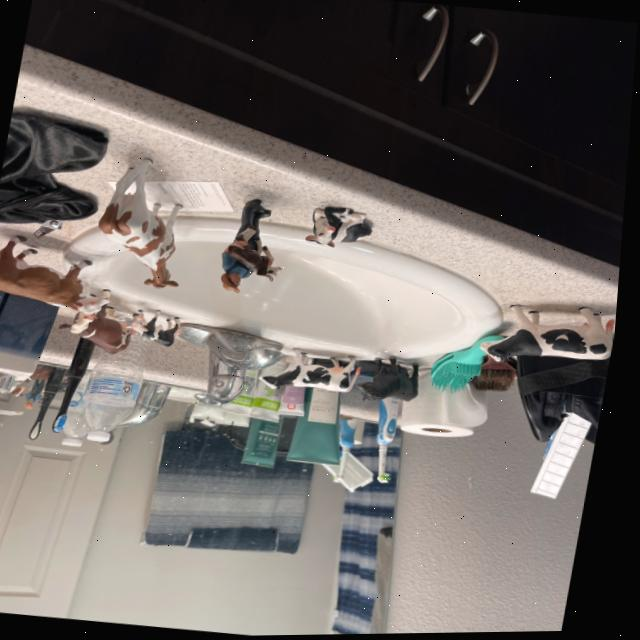cow: (81, 154, 231, 302), (0, 230, 102, 319), (485, 305, 620, 364), (263, 344, 367, 401), (63, 291, 145, 361), (227, 230, 291, 285), (363, 355, 426, 405), (130, 300, 188, 350), (309, 207, 376, 250)
person: (211, 251, 258, 296)
